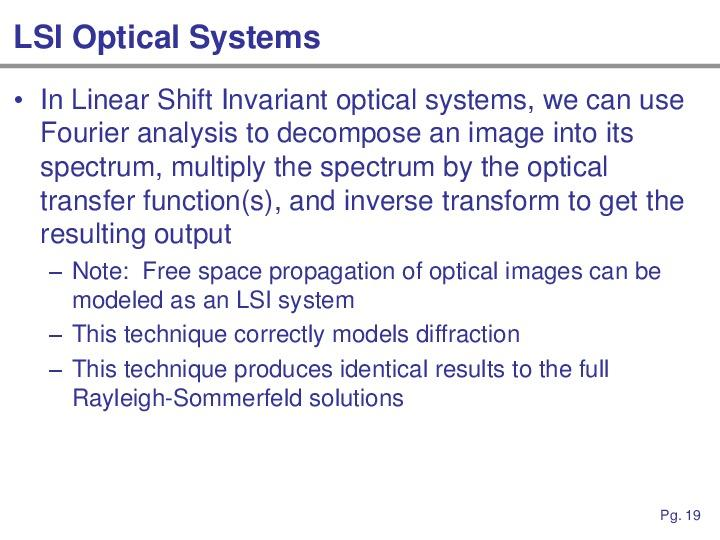paragraph: (33, 84, 707, 441)
title: (5, 15, 328, 57)
